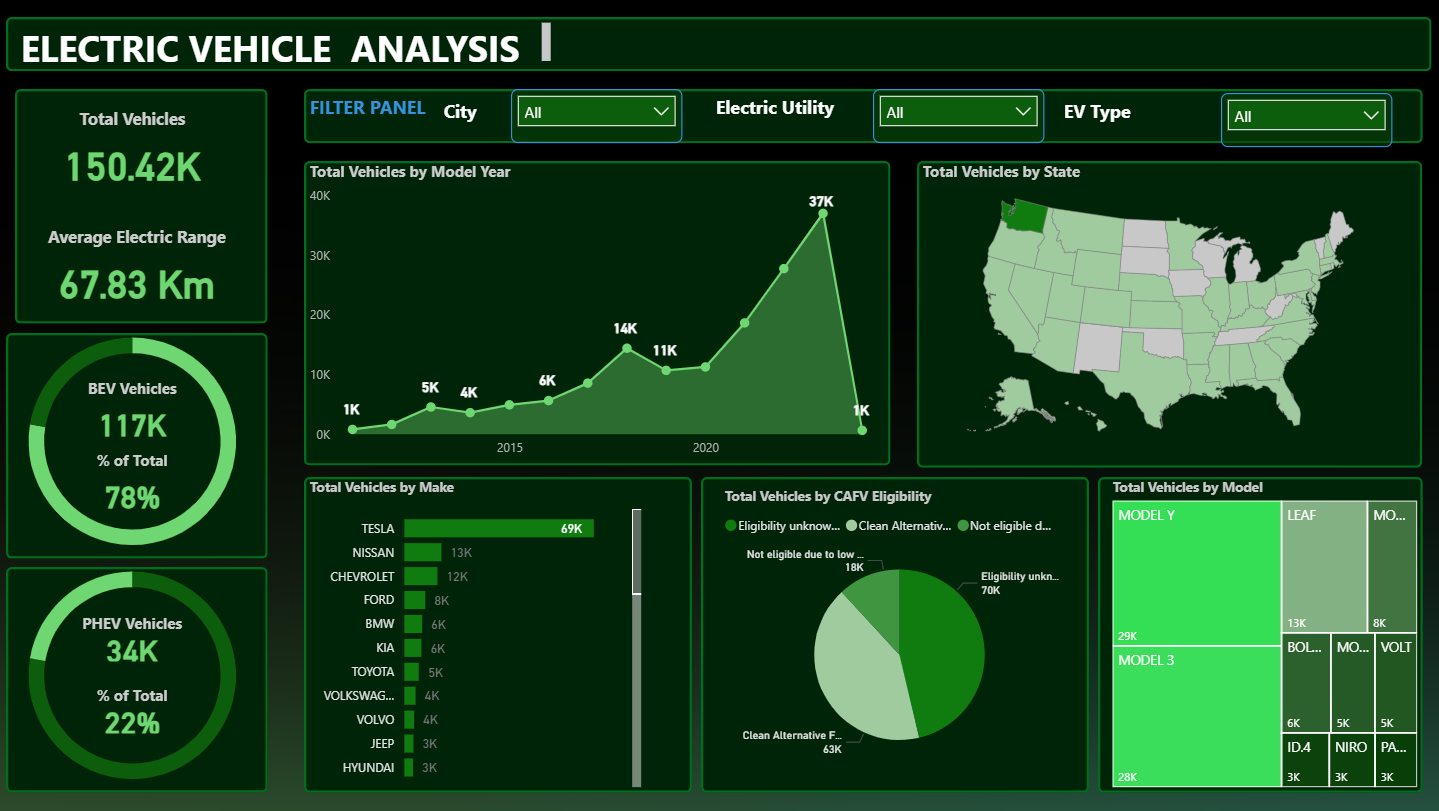

The page's visual inventory and layout, read from the dashboard file:
{"tool":"powerbi","page":{"name":"Page 2","canvas":[1280,720],"ordinal":0},"visuals":[{"type":"shape","box":[8,16,1264,48],"z":0},{"type":"textbox","box":[16,16,480,48],"z":1000},{"type":"shape","box":[16,80,224,208],"z":2000},{"type":"card","title":"Total Vehicles","fields":{"Values":["Electric_Vehicle_Population_Data.Total Vehicles"]},"box":[24,96,192,80],"z":3000},{"type":"card","title":"Average Electric Range","fields":{"Values":["Electric_Vehicle_Population_Data.Avg Range"]},"box":[24,200,200,80],"z":4000},{"type":"shape","box":[8,504,232,200],"z":5000},{"type":"shape","box":[8,296,232,200],"z":6000},{"type":"donutChart","fields":{"Category":["Electric_Vehicle_Population_Data.Electric Vehicle Type"],"Y":["Electric_Vehicle_Population_Data.Total Vehicles"]},"box":[0,272,240,240],"z":7000},{"type":"card","title":"BEV Vehicles","fields":{"Values":["Electric_Vehicle_Population_Data.BEV Vehicles"]},"box":[32,336,176,64],"z":8000},{"type":"card","title":"% of Total","fields":{"Values":["Electric_Vehicle_Population_Data.% of BEV"]},"box":[64,400,112,64],"z":9000},{"type":"donutChart","fields":{"Category":["Electric_Vehicle_Population_Data.Electric Vehicle Type"],"Y":["Electric_Vehicle_Population_Data.Total Vehicles"]},"box":[0,480,240,240],"z":10000},{"type":"card","title":"PHEV Vehicles","fields":{"Values":["Electric_Vehicle_Population_Data.PHEV Vehicles"]},"box":[64,544,112,48],"z":11000},{"type":"card","title":"% of Total","fields":{"Values":["Electric_Vehicle_Population_Data.% of PHEV"]},"box":[64,608,112,48],"z":12000},{"type":"shape","box":[272,80,992,48],"z":13000},{"type":"shape","box":[272,144,520,270],"z":14000},{"type":"areaChart","fields":{"Category":["Electric_Vehicle_Population_Data.Model Year"],"Y":["Electric_Vehicle_Population_Data.Total Vehicles"]},"box":[272,144,512,272],"z":15000},{"type":"shape","box":[816,144,448,272],"z":16000},{"type":"shapeMap","fields":{"Category":["Electric_Vehicle_Population_Data.State"],"Value":["Electric_Vehicle_Population_Data.Total Vehicles"]},"box":[816,144,432,256],"z":17000},{"type":"shape","box":[272,424,344,280],"z":18000},{"type":"barChart","fields":{"Category":["Electric_Vehicle_Population_Data.Make"],"Y":["Electric_Vehicle_Population_Data.Total Vehicles"]},"box":[272,424,304,280],"z":19000},{"type":"shape","box":[624,424,344,280],"z":20000},{"type":"pieChart","title":"Total Vehicles by CAFV Eligibility","fields":{"Category":["Electric_Vehicle_Population_Data.Clean Alternative Fuel Vehicle (CAFV) Eligibility"],"Y":["Electric_Vehicle_Population_Data.Total Vehicles"]},"box":[640,432,320,256],"z":21000},{"type":"shape","box":[976,424,288,280],"z":22000},{"type":"treemap","fields":{"Group":["Electric_Vehicle_Population_Data.Model"],"Values":["Electric_Vehicle_Population_Data.Total Vehicles"]},"box":[984,424,280,280],"z":23000},{"type":"textbox","box":[272,80,128,32],"z":24000},{"type":"slicer","fields":{"Values":["Electric_Vehicle_Population_Data.City"]},"box":[456,80,152,48],"z":25000},{"type":"textbox","box":[391.1,80,48,48],"z":26000},{"type":"textbox","box":[632,80,128,32],"z":27000},{"type":"slicer","fields":{"Values":["Electric_Vehicle_Population_Data.Electric Utility"]},"box":[776.9,80,152,48],"z":28000},{"type":"textbox","box":[940.7,83.6,128,32],"z":29000},{"type":"slicer","fields":{"Values":["Electric_Vehicle_Population_Data.Electric Vehicle Type"]},"box":[1085.6,83.6,152,48],"z":30000}]}

Visuals, with their boxes in screenshot pixels (x1, y1, x2, y2), scaled from the page's 1280x720 canvas onto the 1439x811 screenshot:
shape: rect(9, 18, 1430, 72)
textbox: rect(18, 18, 558, 72)
shape: rect(18, 90, 270, 324)
"Total Vehicles" card: rect(27, 108, 243, 198)
"Average Electric Range" card: rect(27, 225, 252, 315)
shape: rect(9, 568, 270, 793)
shape: rect(9, 333, 270, 559)
donutChart - Electric_Vehicle_Population_Data.Electric Vehicle Type x Electric_Vehicle_Population_Data.Total Vehicles: rect(0, 306, 270, 577)
"BEV Vehicles" card: rect(36, 378, 234, 451)
"% of Total" card: rect(72, 451, 198, 523)
donutChart - Electric_Vehicle_Population_Data.Electric Vehicle Type x Electric_Vehicle_Population_Data.Total Vehicles: rect(0, 541, 270, 810)
"PHEV Vehicles" card: rect(72, 613, 198, 667)
"% of Total" card: rect(72, 685, 198, 739)
shape: rect(306, 90, 1421, 144)
shape: rect(306, 162, 890, 466)
areaChart - Electric_Vehicle_Population_Data.Model Year x Electric_Vehicle_Population_Data.Total Vehicles: rect(306, 162, 881, 469)
shape: rect(917, 162, 1421, 469)
shapeMap - Electric_Vehicle_Population_Data.State x Electric_Vehicle_Population_Data.Total Vehicles: rect(917, 162, 1403, 451)
shape: rect(306, 478, 693, 793)
barChart - Electric_Vehicle_Population_Data.Make x Electric_Vehicle_Population_Data.Total Vehicles: rect(306, 478, 648, 793)
shape: rect(702, 478, 1088, 793)
"Total Vehicles by CAFV Eligibility" pieChart: rect(720, 487, 1079, 775)
shape: rect(1097, 478, 1421, 793)
treemap - Electric_Vehicle_Population_Data.Model x Electric_Vehicle_Population_Data.Total Vehicles: rect(1106, 478, 1421, 793)
textbox: rect(306, 90, 450, 126)
slicer - Electric_Vehicle_Population_Data.City: rect(513, 90, 684, 144)
textbox: rect(440, 90, 494, 144)
textbox: rect(711, 90, 854, 126)
slicer - Electric_Vehicle_Population_Data.Electric Utility: rect(873, 90, 1044, 144)
textbox: rect(1058, 94, 1201, 130)
slicer - Electric_Vehicle_Population_Data.Electric Vehicle Type: rect(1220, 94, 1391, 148)
